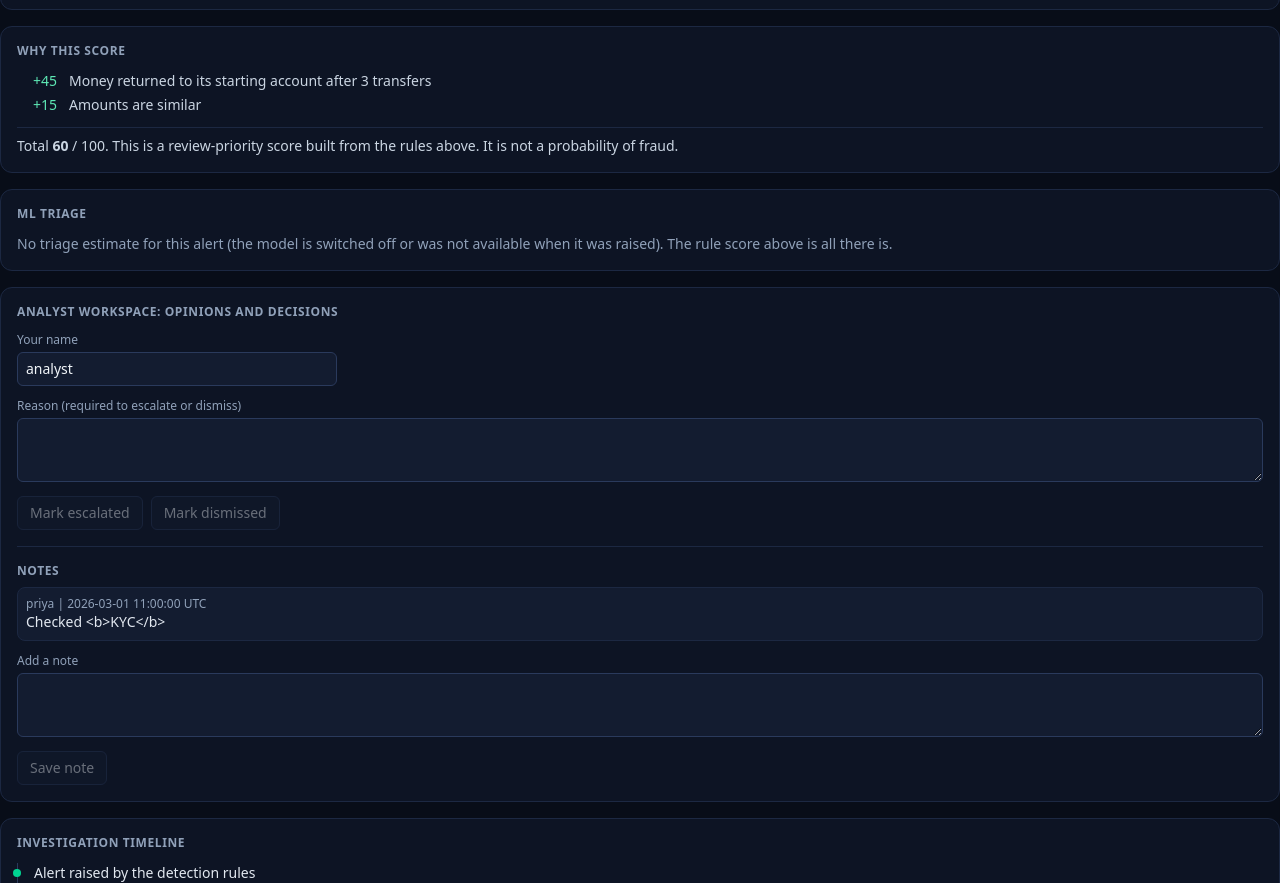
AlertDetail › shows the server message if a status change is rejected
(page scrolled)
In the text box labelled "Reason (required to escalate or dismiss)": [640, 450] box [17,418,1263,482], type "because"
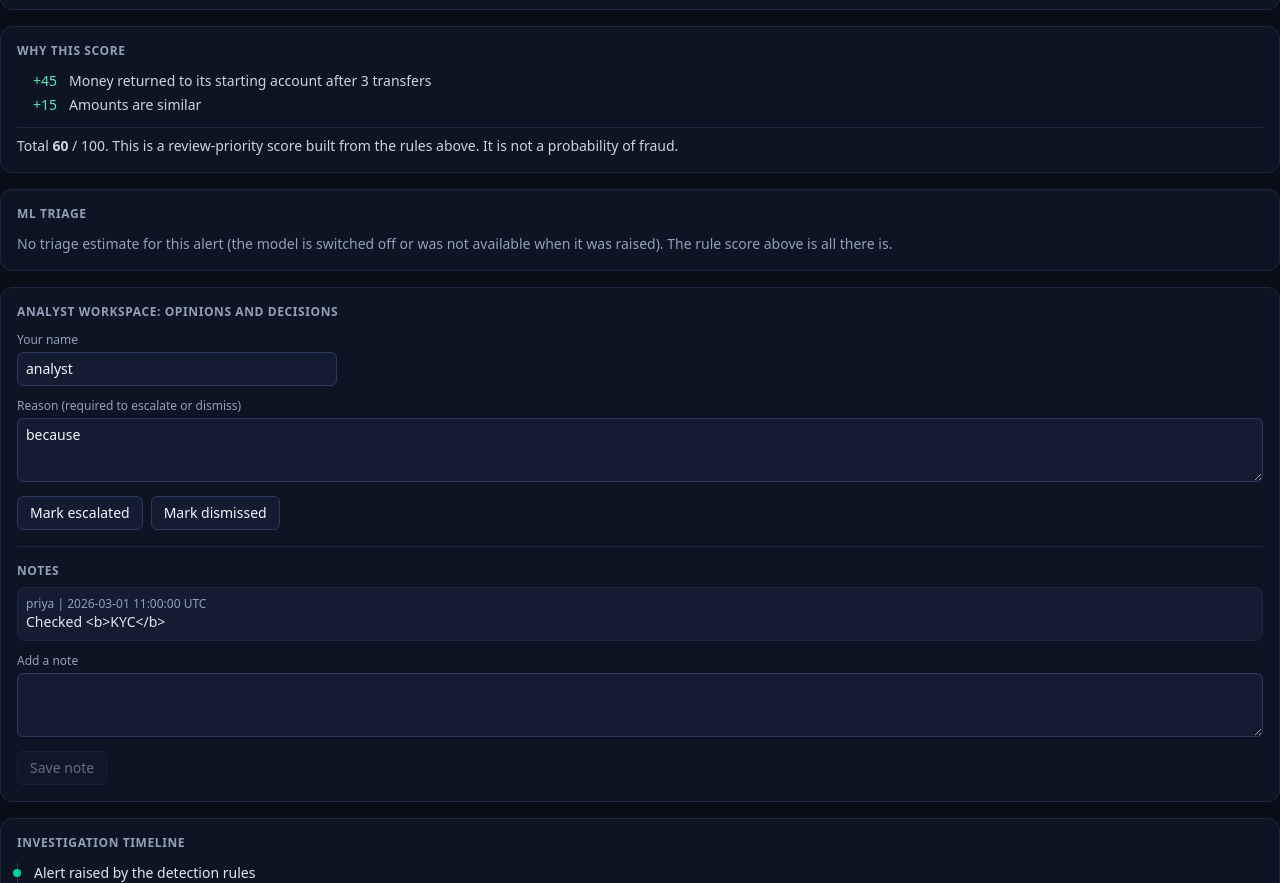
Click the button "Mark escalated": [80, 513] box [17,496,143,530]
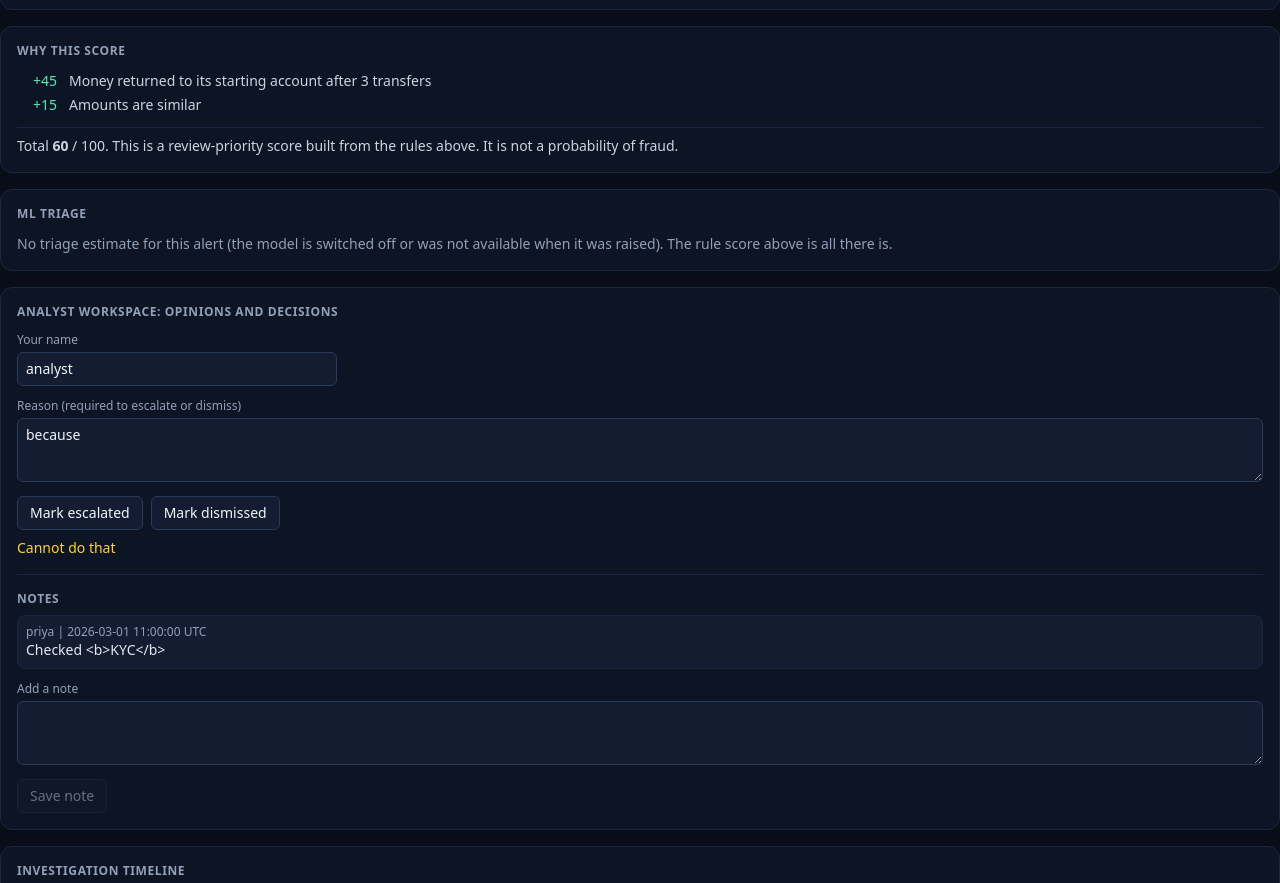
Now the text "Cannot do that" is shown, box [17,538,116,557]
